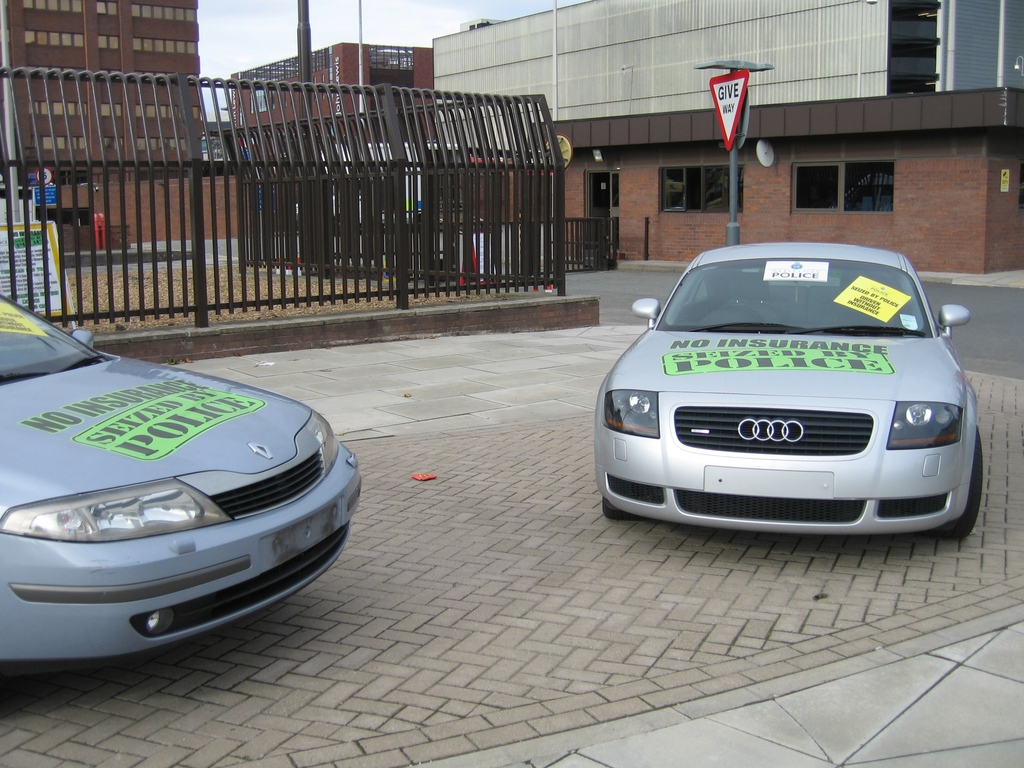Car: (0, 293, 360, 673), (593, 239, 987, 540)
